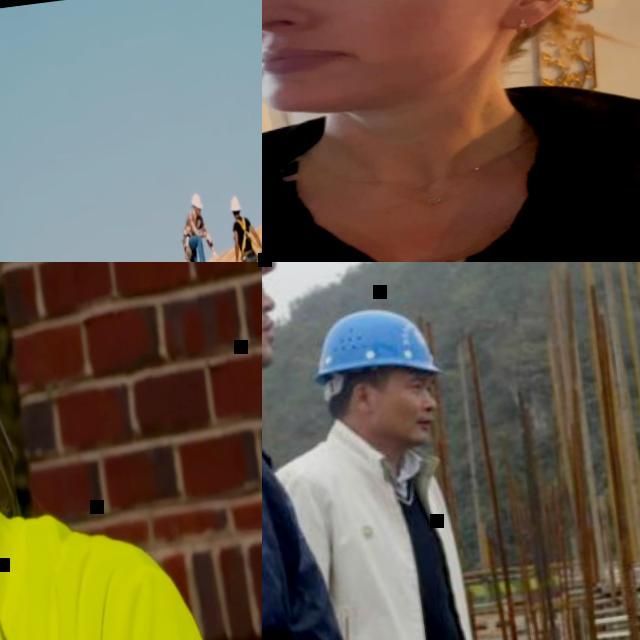Hardhat: (305, 301, 445, 389), (190, 193, 202, 210), (228, 196, 240, 212)
NO-Mask: (262, 0, 557, 123), (368, 405, 437, 450), (195, 211, 200, 217)
NO-Safety Vest: (262, 111, 640, 262), (288, 442, 474, 640), (262, 387, 352, 640), (0, 491, 137, 640), (234, 215, 252, 255), (180, 210, 201, 237)
Person: (262, 0, 640, 262), (0, 262, 230, 640), (262, 297, 488, 640), (262, 262, 352, 640), (175, 191, 219, 262), (226, 193, 262, 262)
